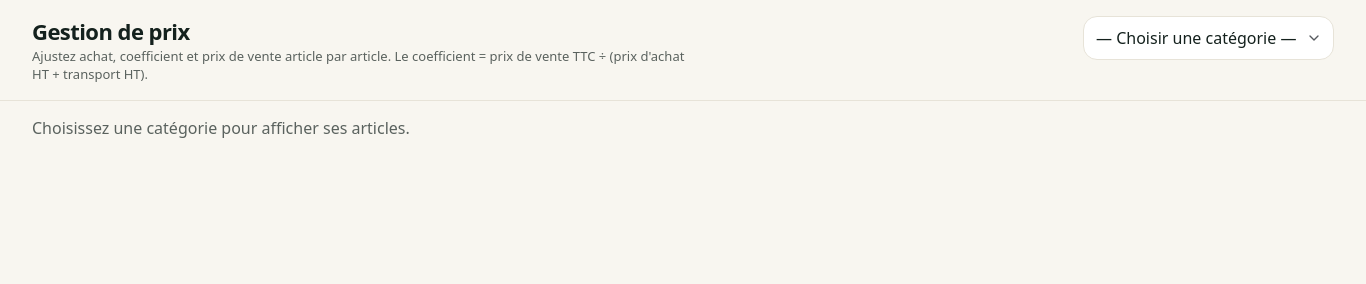
Test case: Gestion de prix — le transport pèse sur le prix de vente TTC › ajouter un transport recalcule la vente à coef constant (coût = achat + transport)
Expected: the text "Choisissez une catégorie pour afficher ses articles." is shown, [32,117,410,139]
Select "Bouquets" in the dropdown at (1208, 38), box [1083,16,1334,60]
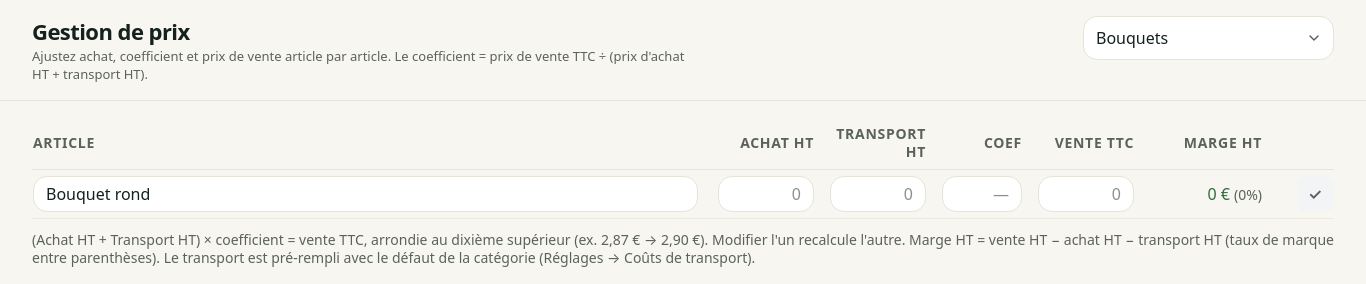
Expected: the field showing "Bouquet rond" is shown, [33,176,698,212]
Type "10" into the 1st field with placeholder "0" at (766, 194), box [718,176,814,212]
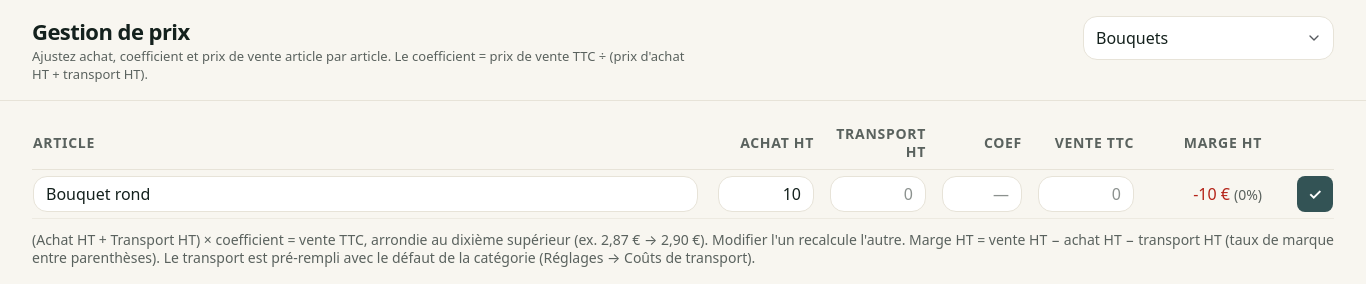
Type "2" into the field with placeholder "—" at (982, 194), box [942,176,1022,212]
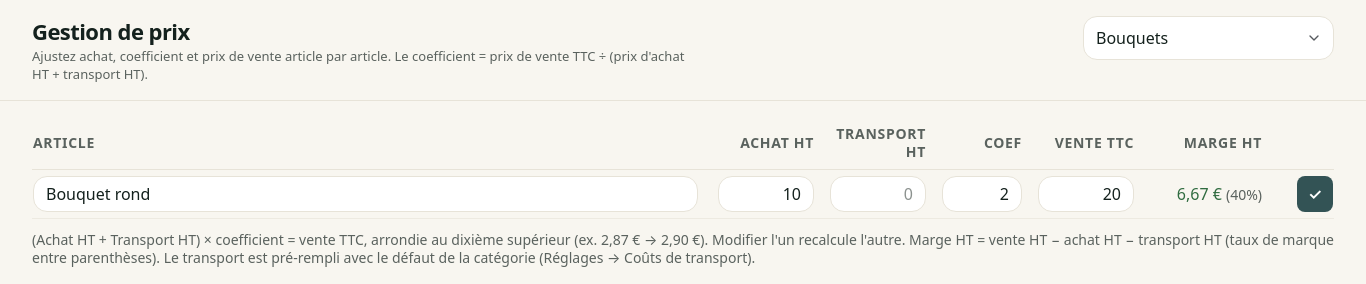
Expected: the 5th field holds "20", [1038,176,1134,212]
Type "2" into the field with placeholder "0" at (878, 194), box [830,176,926,212]
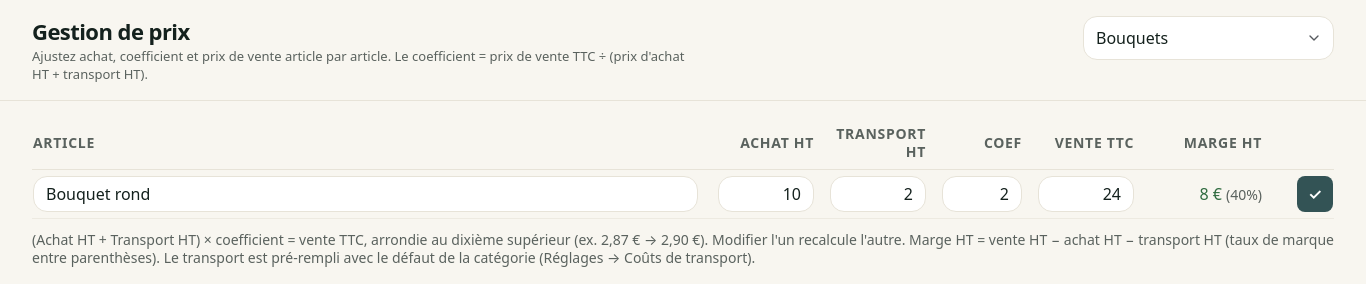
Expected: the 5th field holds "24", [1038,176,1134,212]
